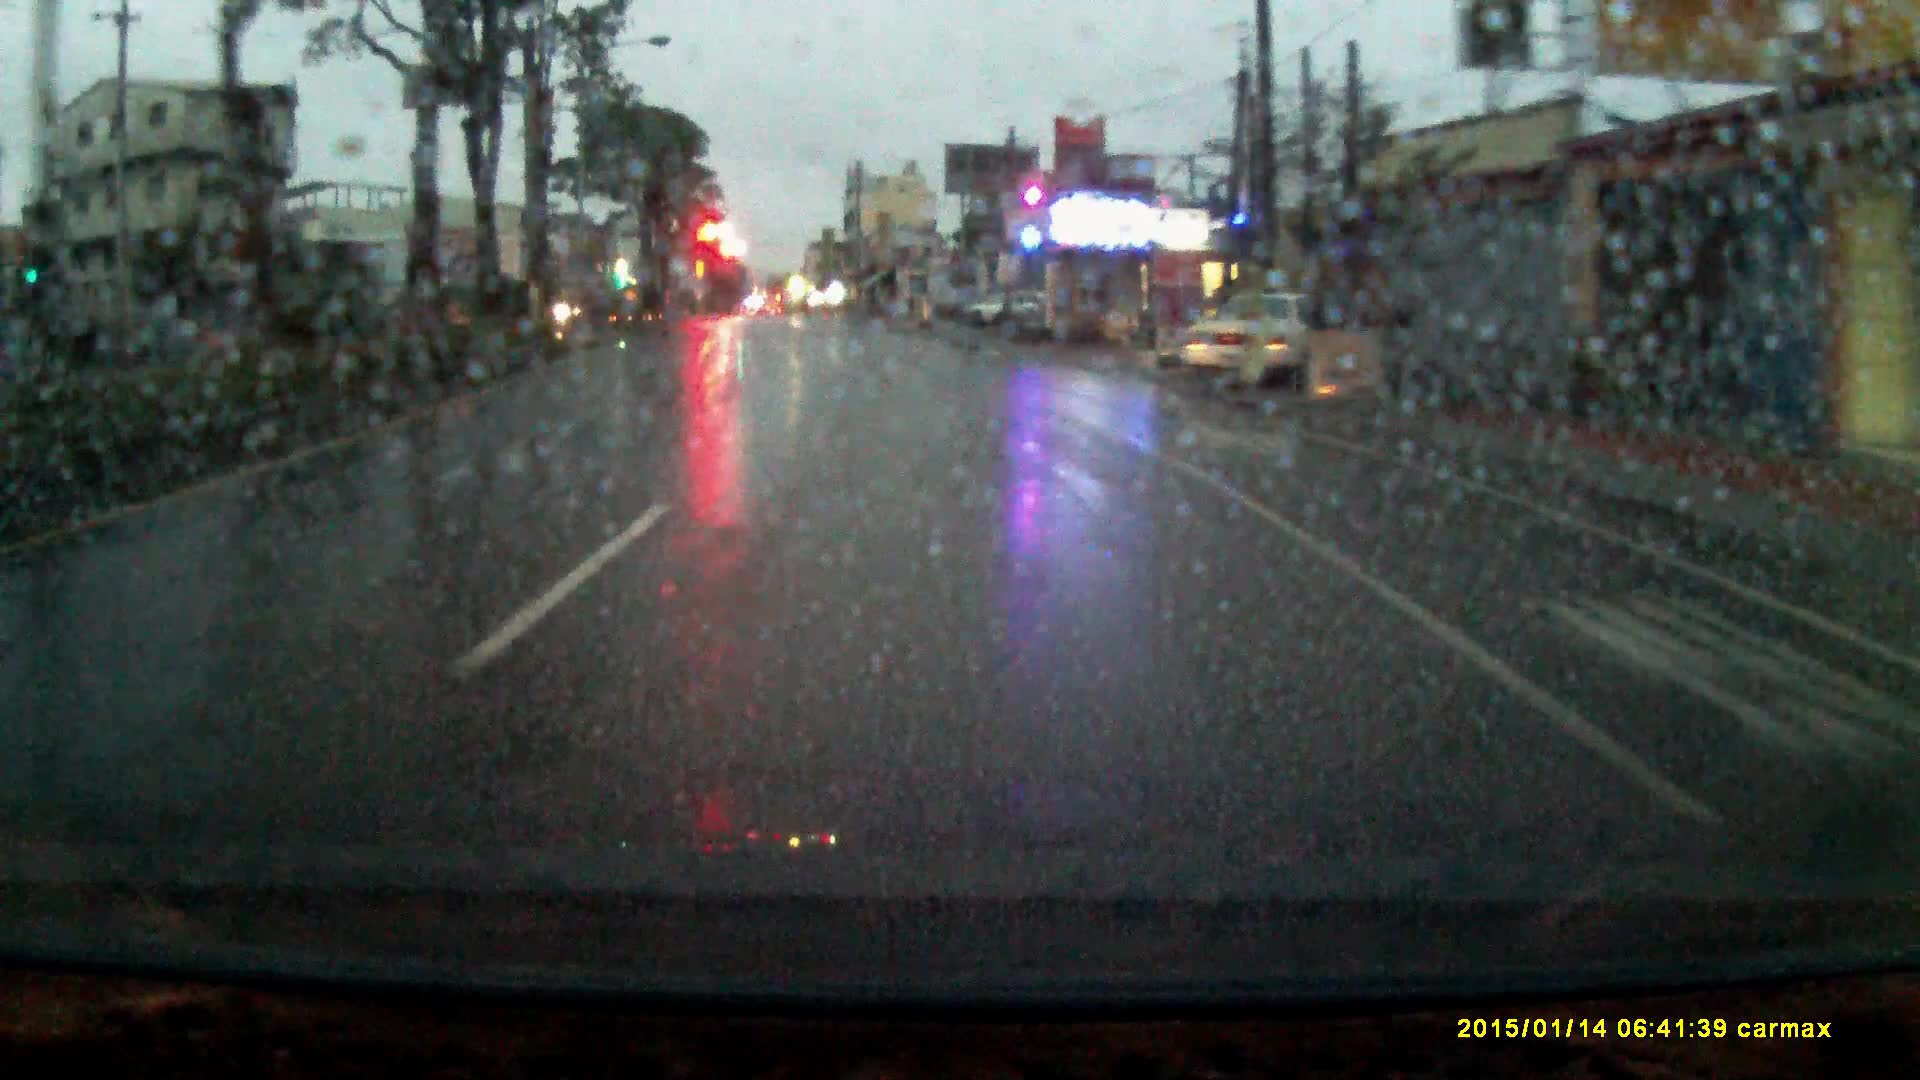vehicle: (1196, 289, 1362, 393), (971, 290, 1052, 326), (547, 293, 588, 327)
